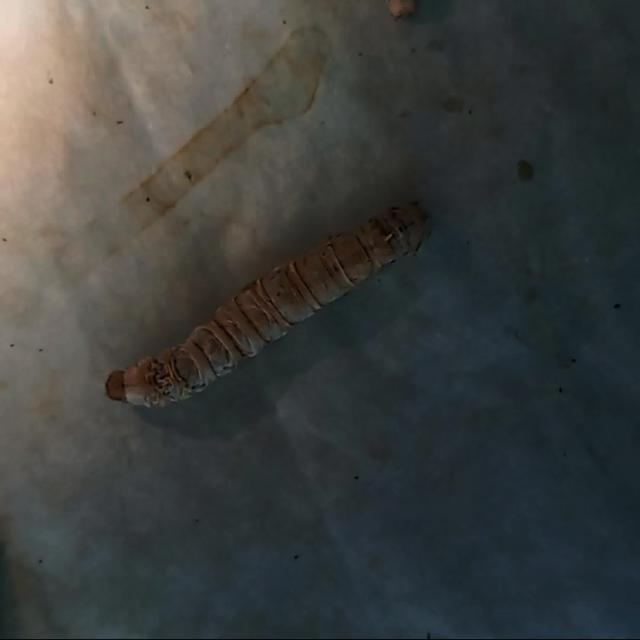Grasserie: (92, 188, 465, 443)
